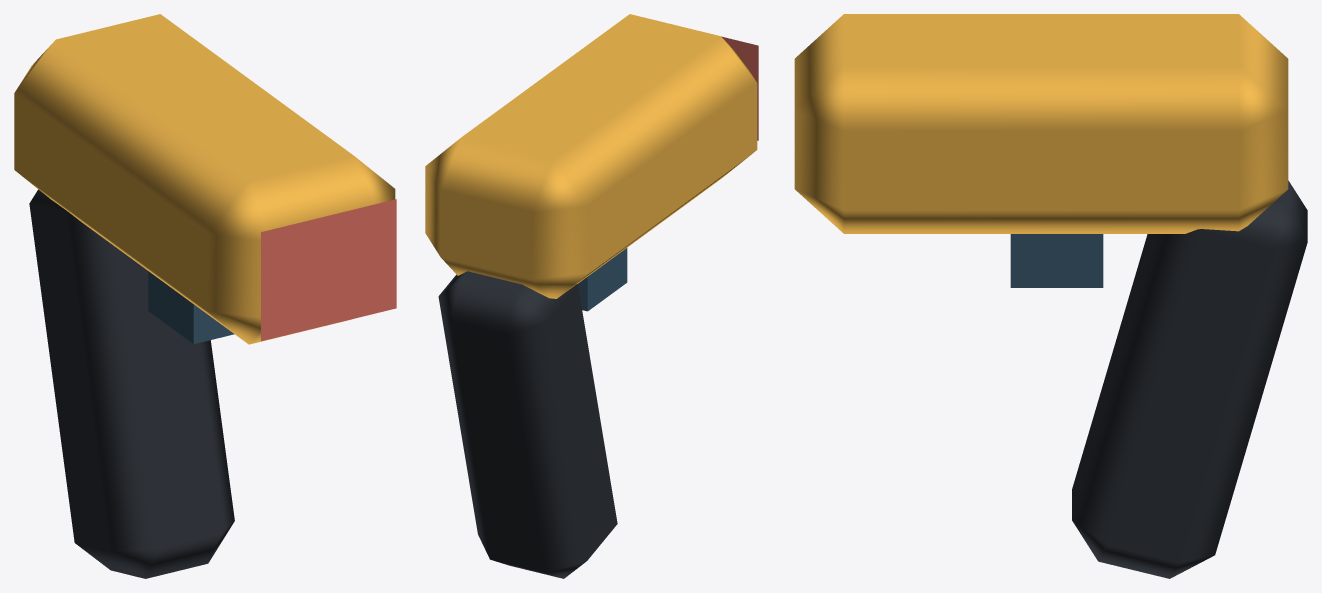
File: CM_Interior_HandScanner.fbx
3 renders of one model, left to right at view 1: azimuth 30°, elevation 25°; view 2: azimuth 150°, elevation 25°; view 3: azimuth 270°, elevation 25°, orthographic. The views are drawn at different scales.
Parts seen in each view (by area): view 1: Body; view 2: Body; view 3: Body.
Part boxes in pixels (x1,y1,x2,y2): Body: (14,14,396,578); Body: (425,14,758,578); Body: (794,14,1307,578).
Bounding box in the file's own units: 0.36 × 0.8436 × 0.9355.
Materials: 1 (1 with a texture image).
